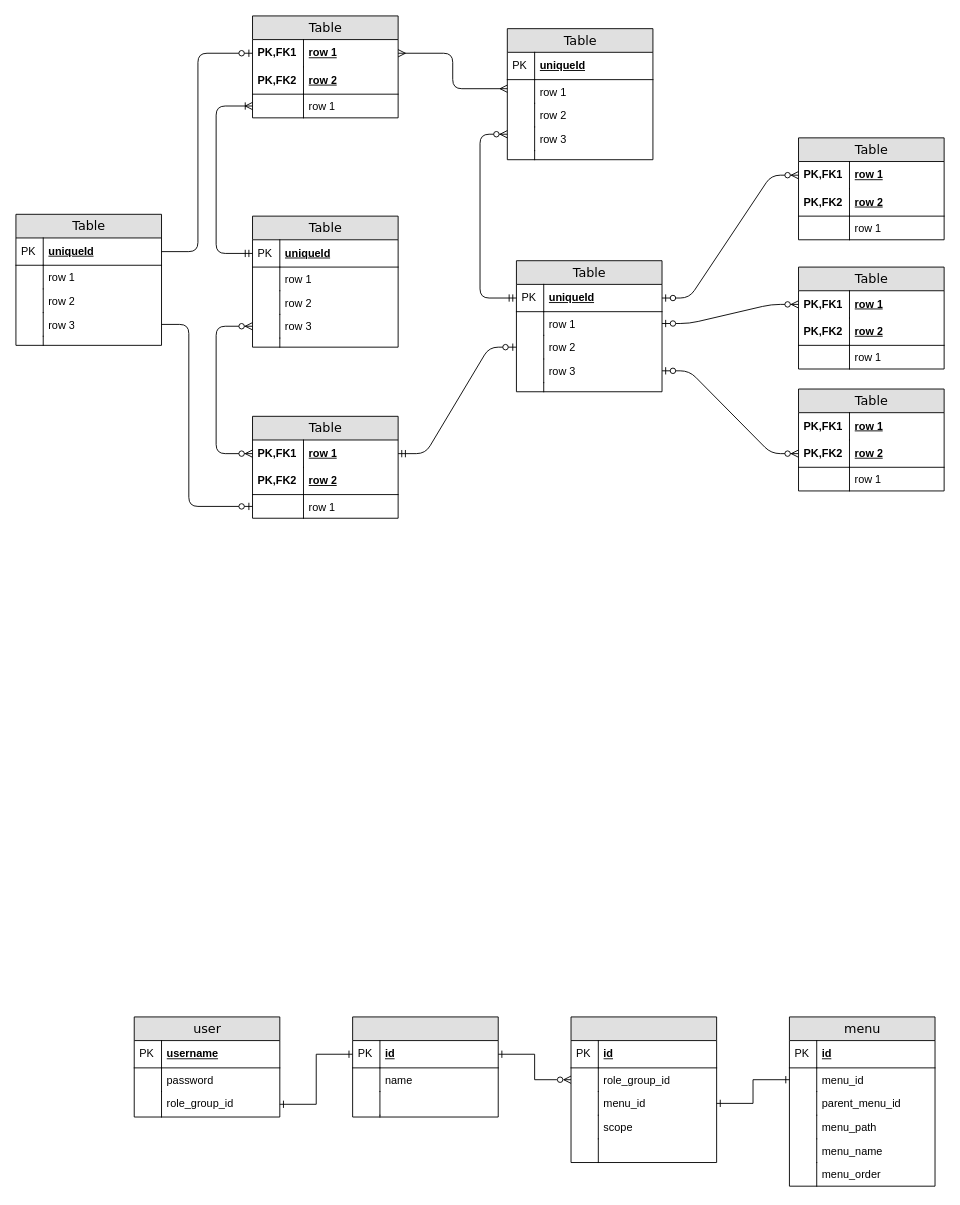
Some shapes in this 960 by 1205 pixel diagram are drawn without their labels. The box of each missing label's shape, as (x1, y1, x2, y2) in pixels:
role_group: (352, 1016, 498, 1117)
role_group_details: (570, 1016, 717, 1163)
